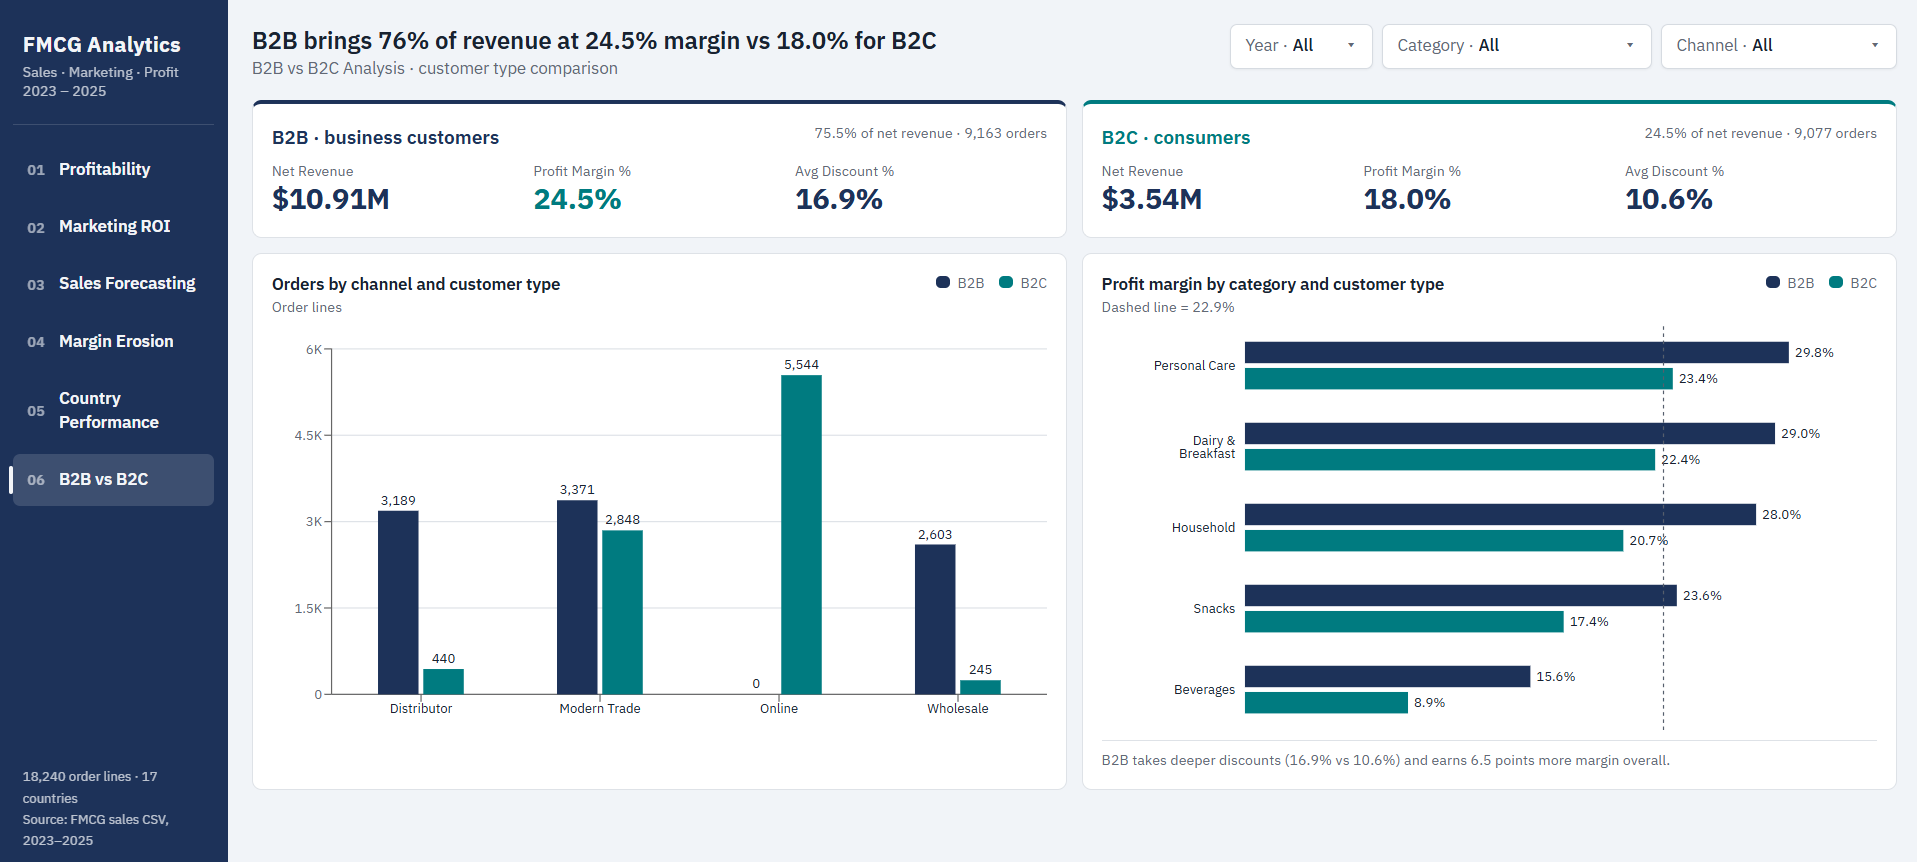

This screenshot's page, from the dashboard's own definition file:
{"tool":"powerbi","page":{"name":"B2B vs B2C Analysis","canvas":[1920,1080],"ordinal":5},"visuals":[{"type":"shape","box":[0,0,285,1080],"z":27600},{"type":"textbox","box":[12,18,262.5,108],"z":27700},{"type":"textbox","box":[12,967.5,262.5,82.5],"z":27800},{"type":"actionButton","box":[18,168,249,66],"z":27900},{"type":"actionButton","box":[18,246,249,66],"z":28000},{"type":"actionButton","box":[18,324,249,66],"z":28100},{"type":"actionButton","box":[18,402,249,66],"z":28200},{"type":"actionButton","box":[18,480,249,66],"z":28300},{"type":"actionButton","box":[18,558,249,66],"z":28400},{"type":"textbox","box":[300,18,891.7,93],"z":28500},{"type":"slicer","fields":{"Values":["DimDate.Year"]},"box":[1306.3,27,191.1,78],"z":28600},{"type":"slicer","fields":{"Values":["DimProduct.Product_Category"]},"box":[1507.6,27,191.1,78],"z":28700},{"type":"slicer","fields":{"Values":["DimChannel.Sales_Channel"]},"box":[1708.8,27,191.1,78],"z":28800},{"type":"multiRowCard","title":"B2B and B2C at a glance","fields":{"Values":["DimCustomerType.Customer_Type","_Measures.Net Revenue","_Measures.Profit Margin %","_Measures.Avg Discount %","_Measures.Order Count"]},"box":[300,126,794.9,165],"z":32700},{"type":"donutChart","title":"Share of net revenue","fields":{"Category":["DimCustomerType.Customer_Type"],"Y":["_Measures.Net Revenue"]},"box":[1110.1,126,794.9,165],"z":32800},{"type":"clusteredColumnChart","title":"Orders by channel and customer type","fields":{"Category":["DimChannel.Sales_Channel"],"Series":["DimCustomerType.Customer_Type"],"Y":["_Measures.Order Count"]},"box":[300,309,794.9,756],"z":32900},{"type":"clusteredBarChart","title":"Profit margin by category and customer type","fields":{"Category":["DimProduct.Product_Category"],"Series":["DimCustomerType.Customer_Type"],"Y":["_Measures.Profit Margin %"]},"box":[1110.1,309,794.9,756],"z":33000},{"type":"shape","box":[18,570,6,42],"z":33100}]}

Visuals, with their boxes on the page's 1920x1080 design canvas (x1, y1, x2, y2). These are canvas units, not pixel positions in the 1917x862 screenshot, which may show the page scaled, cropped or inside an application window:
shape: x1=0, y1=0, x2=285, y2=1080
textbox: x1=12, y1=18, x2=274, y2=126
textbox: x1=12, y1=968, x2=274, y2=1050
actionButton: x1=18, y1=168, x2=267, y2=234
actionButton: x1=18, y1=246, x2=267, y2=312
actionButton: x1=18, y1=324, x2=267, y2=390
actionButton: x1=18, y1=402, x2=267, y2=468
actionButton: x1=18, y1=480, x2=267, y2=546
actionButton: x1=18, y1=558, x2=267, y2=624
textbox: x1=300, y1=18, x2=1192, y2=111
slicer - DimDate.Year: x1=1306, y1=27, x2=1497, y2=105
slicer - DimProduct.Product_Category: x1=1508, y1=27, x2=1699, y2=105
slicer - DimChannel.Sales_Channel: x1=1709, y1=27, x2=1900, y2=105
"B2B and B2C at a glance" multiRowCard: x1=300, y1=126, x2=1095, y2=291
"Share of net revenue" donutChart: x1=1110, y1=126, x2=1905, y2=291
"Orders by channel and customer type" clusteredColumnChart: x1=300, y1=309, x2=1095, y2=1065
"Profit margin by category and customer type" clusteredBarChart: x1=1110, y1=309, x2=1905, y2=1065
shape: x1=18, y1=570, x2=24, y2=612
